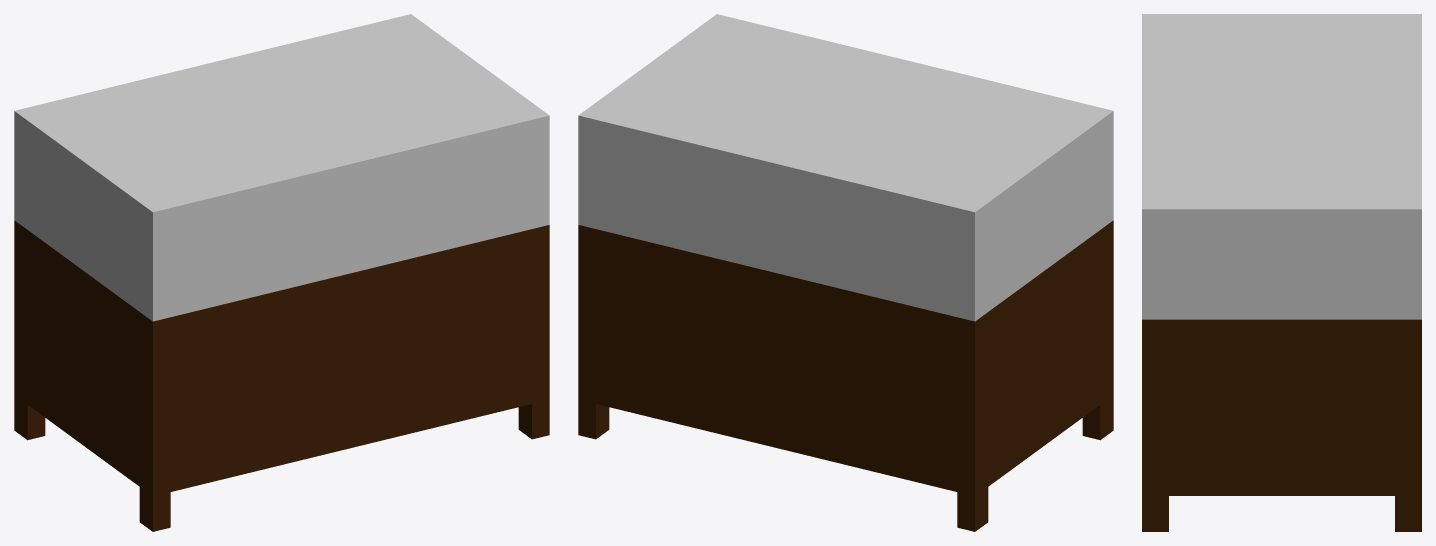
The model's file is Vitrina_3.fbx.
3 views of the same model, side by side, from view 1: azimuth 30°, elevation 25°; view 2: azimuth 150°, elevation 25°; view 3: azimuth 270°, elevation 25° (orthographic).
Visible parts, largest first — view 1: Cube.001; view 2: Cube.001; view 3: Cube.001.
Part boxes in pixels (box(x1,y1,x2,y2)): Cube.001: box(14, 14, 549, 531); Cube.001: box(578, 14, 1113, 531); Cube.001: box(1142, 14, 1421, 531).
Size of the model in its own units: 152 by 117 by 92.
